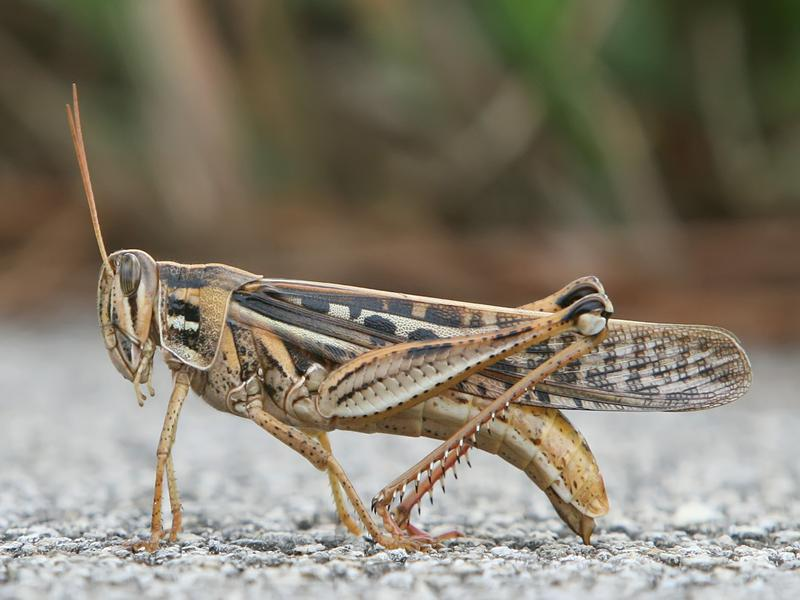Grasshopper: (90, 247, 768, 551)
